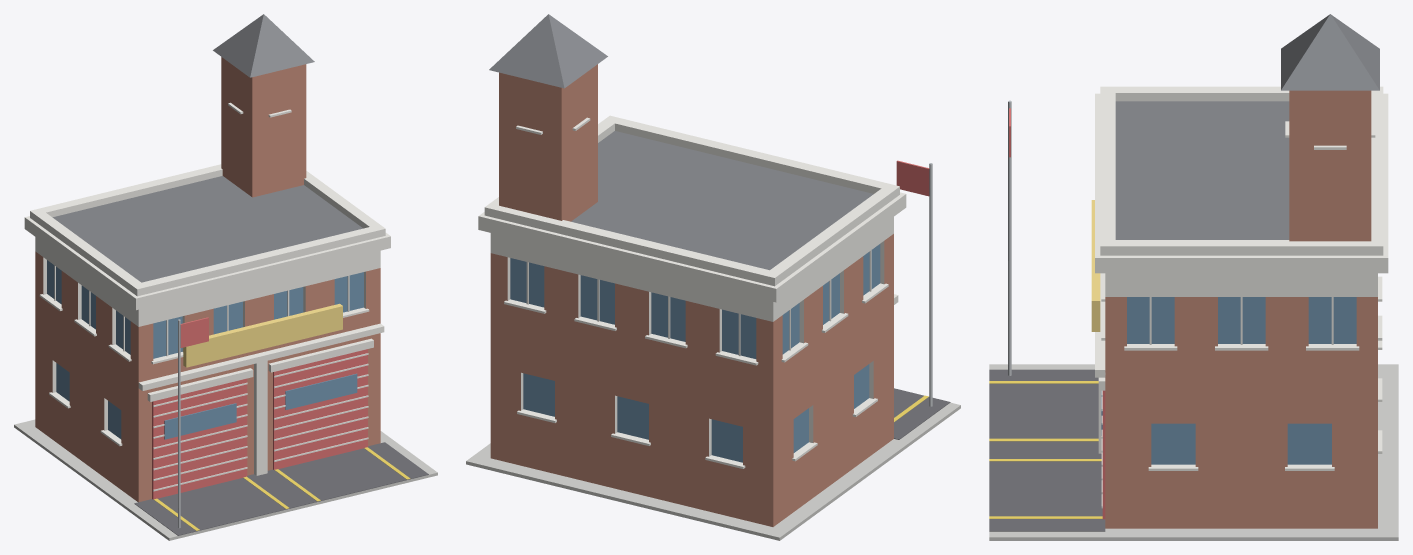
Rendered from fire_station.glb.
3 renders of one model, left to right at view 1: azimuth 30°, elevation 25°; view 2: azimuth 150°, elevation 25°; view 3: azimuth 270°, elevation 25°, orthographic. The views are drawn at different scales.
Visible parts, largest first — view 1: fire_station; view 2: fire_station; view 3: fire_station.
Boxes of the visible parts, box(x1,y1,x2,y2) form: fire_station: box(14, 14, 437, 540); fire_station: box(466, 14, 960, 540); fire_station: box(989, 14, 1398, 540).
Bounding box in the file's own units: 12 × 16.12 × 12.
